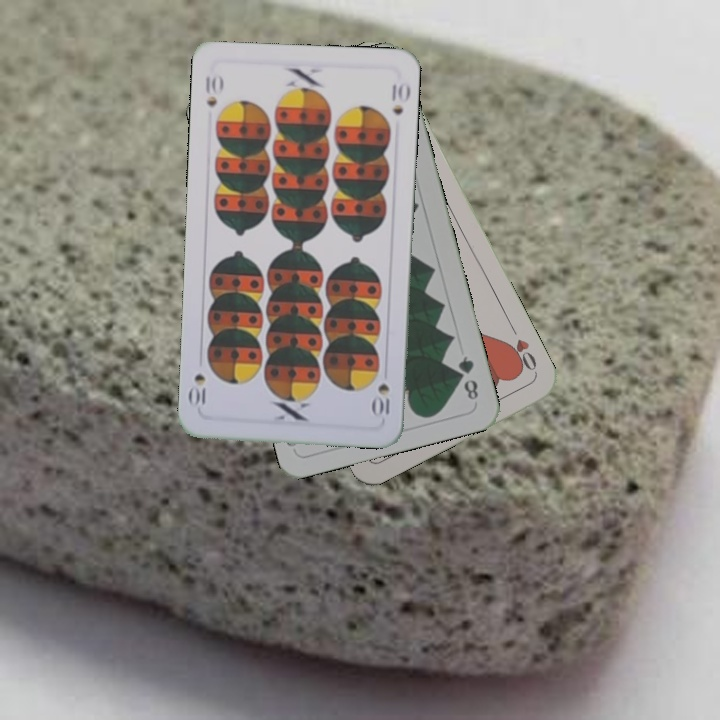G8: (454, 352, 481, 403)
HO: (503, 320, 540, 375)
S10: (201, 71, 225, 109), (370, 379, 392, 419)
